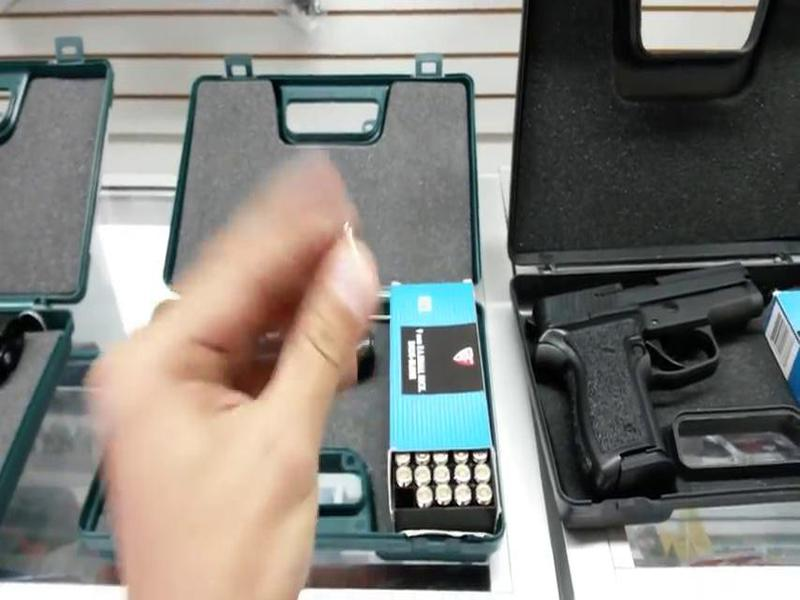Pistola: (524, 254, 769, 518)
